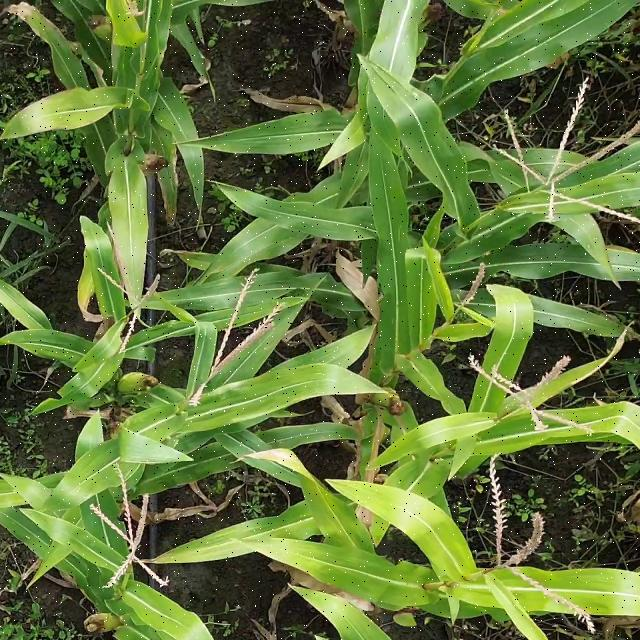gray-leaf-spot: (223, 362, 329, 419)
northern-leaf-blight: (67, 249, 120, 336)
southern-leaf-blight: (215, 206, 320, 272)
